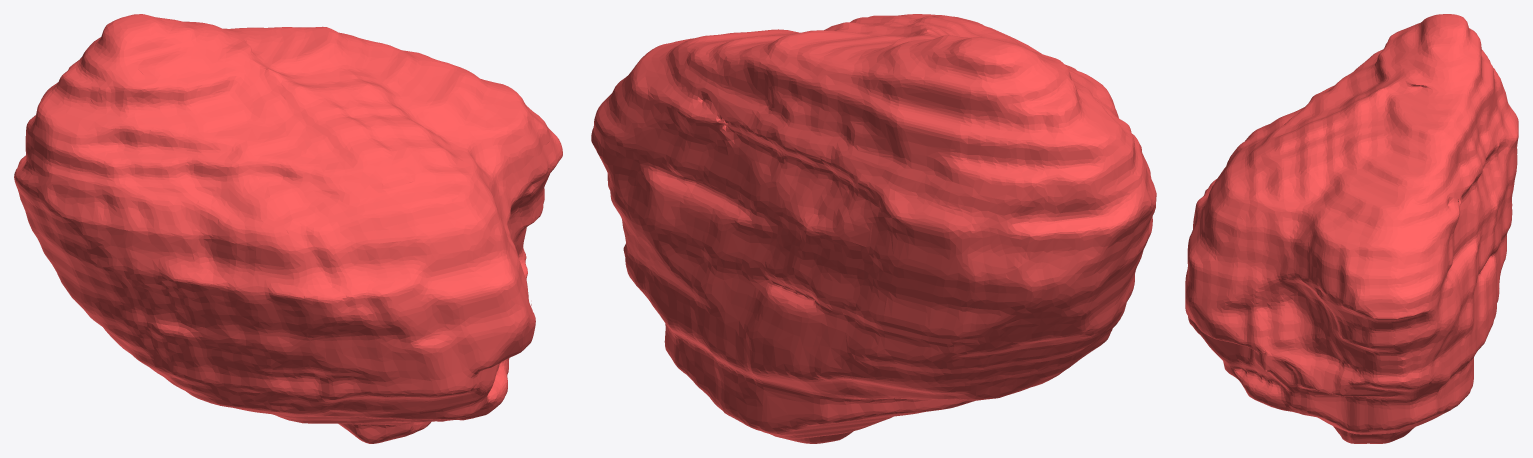
Rendered from heart_final2.glb.
3 renders of one model, left to right at view 1: azimuth 30°, elevation 25°; view 2: azimuth 150°, elevation 25°; view 3: azimuth 270°, elevation 25°, orthographic. The views are drawn at different scales.
Visible parts, largest first — view 1: Heart; view 2: Heart; view 3: Heart.
Boxes of the visible parts, left/top/right/bottom form: Heart: left=14, top=14, right=562, bottom=443; Heart: left=591, top=14, right=1156, bottom=443; Heart: left=1185, top=14, right=1518, bottom=443.
Bounding box in the file's own units: 18.05 × 14.45 × 13.1.
